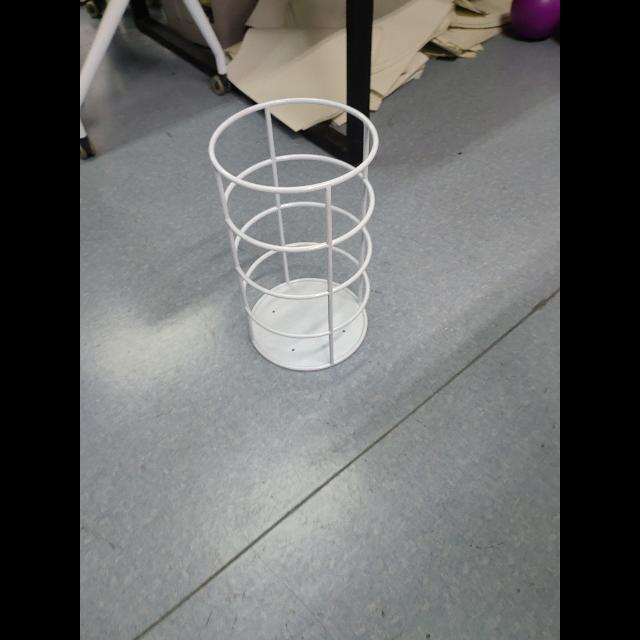S: (206, 96, 382, 374)
